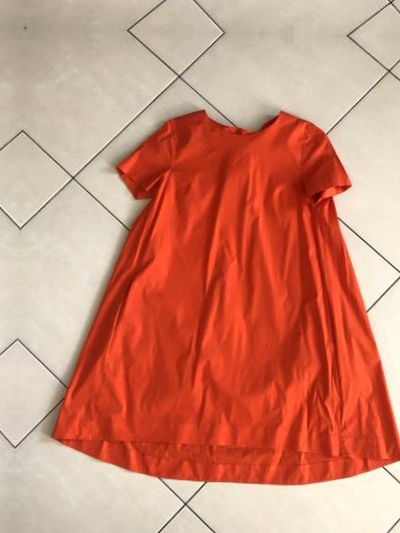Dress: (47, 33, 400, 508), (59, 0, 400, 32), (0, 0, 2, 21)
